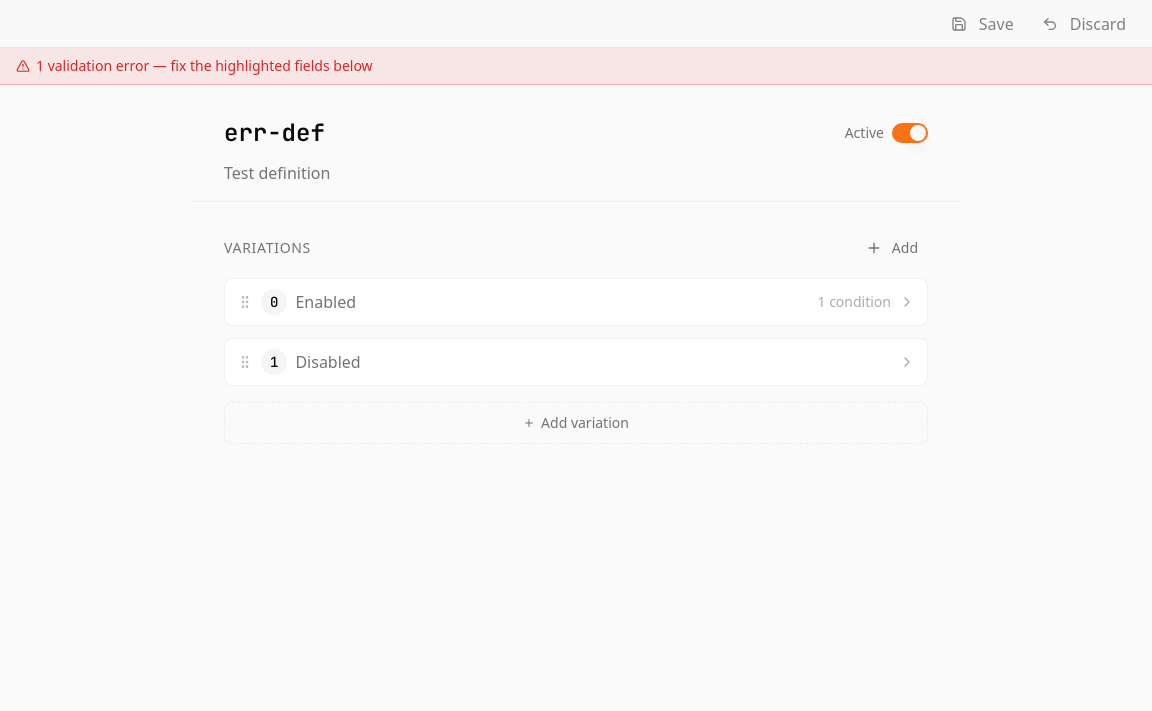
Test case: DefinitionEditor › shows nested validation details when the definition has errors
Click the text "Enabled" at (326, 302), box [295,291,356,313]
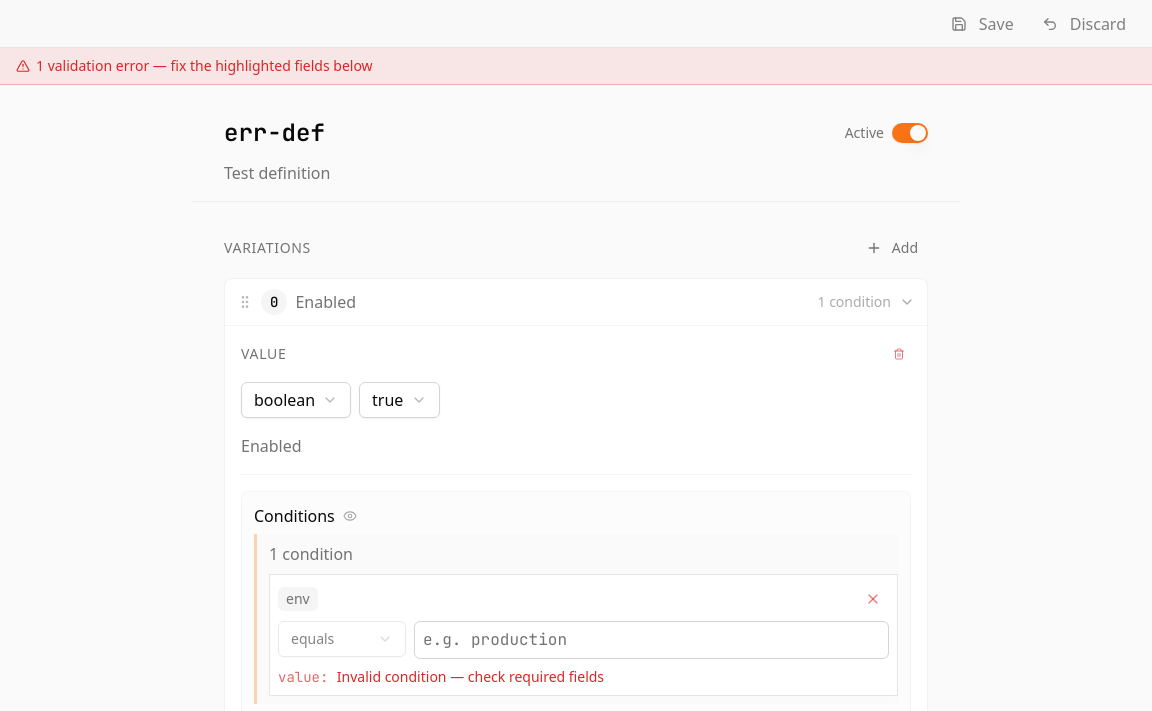
expect the text "value: Invalid condition — check required fields" is shown: met, box [278,667,604,686]
